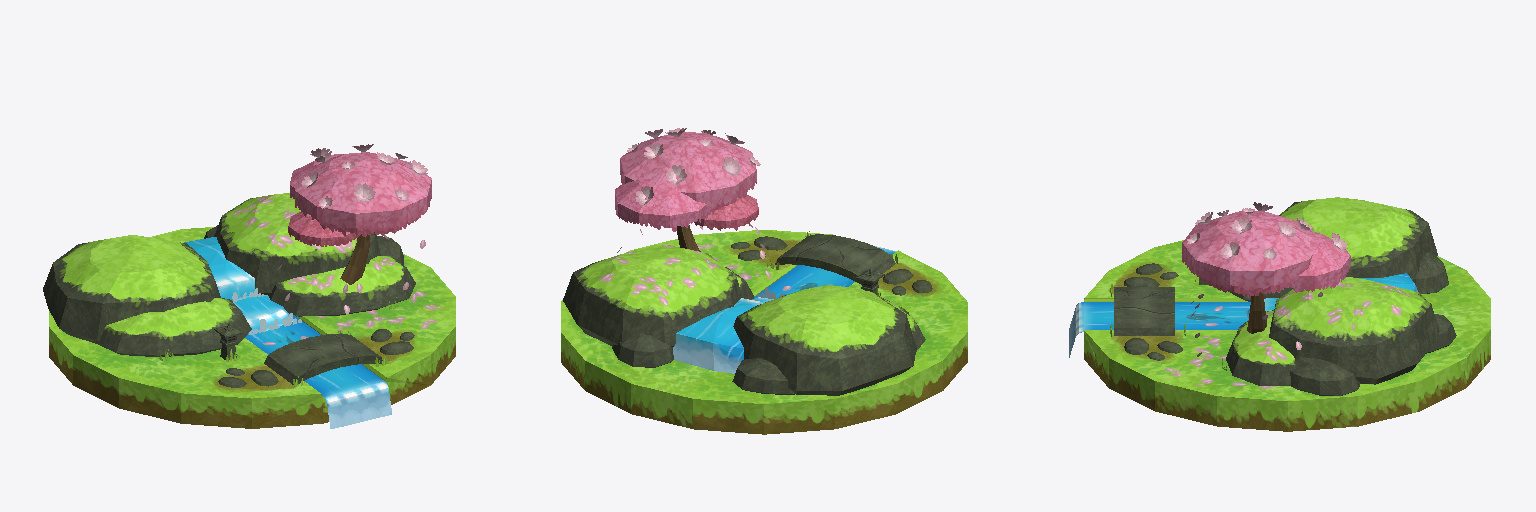
The picture shows the model from 3 angles: view 1: azimuth 30°, elevation 25°; view 2: azimuth 150°, elevation 25°; view 3: azimuth 270°, elevation 25°; orthographic projection.
Parts seen in each view (by area): view 1: lower_rock_2_Material_#4_0, GeoSphere003_Material_#6_0; view 2: lower_rock_2_Material_#4_0, GeoSphere003_Material_#6_0; view 3: lower_rock_2_Material_#4_0, GeoSphere003_Material_#6_0.
Part boxes in pixels (left/top/right/bottom): lower_rock_2_Material_#4_0: left=43, top=193, right=455, bottom=428; GeoSphere003_Material_#6_0: left=159, top=144, right=431, bottom=386; lower_rock_2_Material_#4_0: left=561, top=225, right=967, bottom=434; GeoSphere003_Material_#6_0: left=615, top=128, right=908, bottom=313; lower_rock_2_Material_#4_0: left=1069, top=197, right=1490, bottom=431; GeoSphere003_Material_#6_0: left=1110, top=202, right=1350, bottom=370.
Size of the model in its own units: 600 by 285 by 613.
Materials: 2 (2 with a texture image).